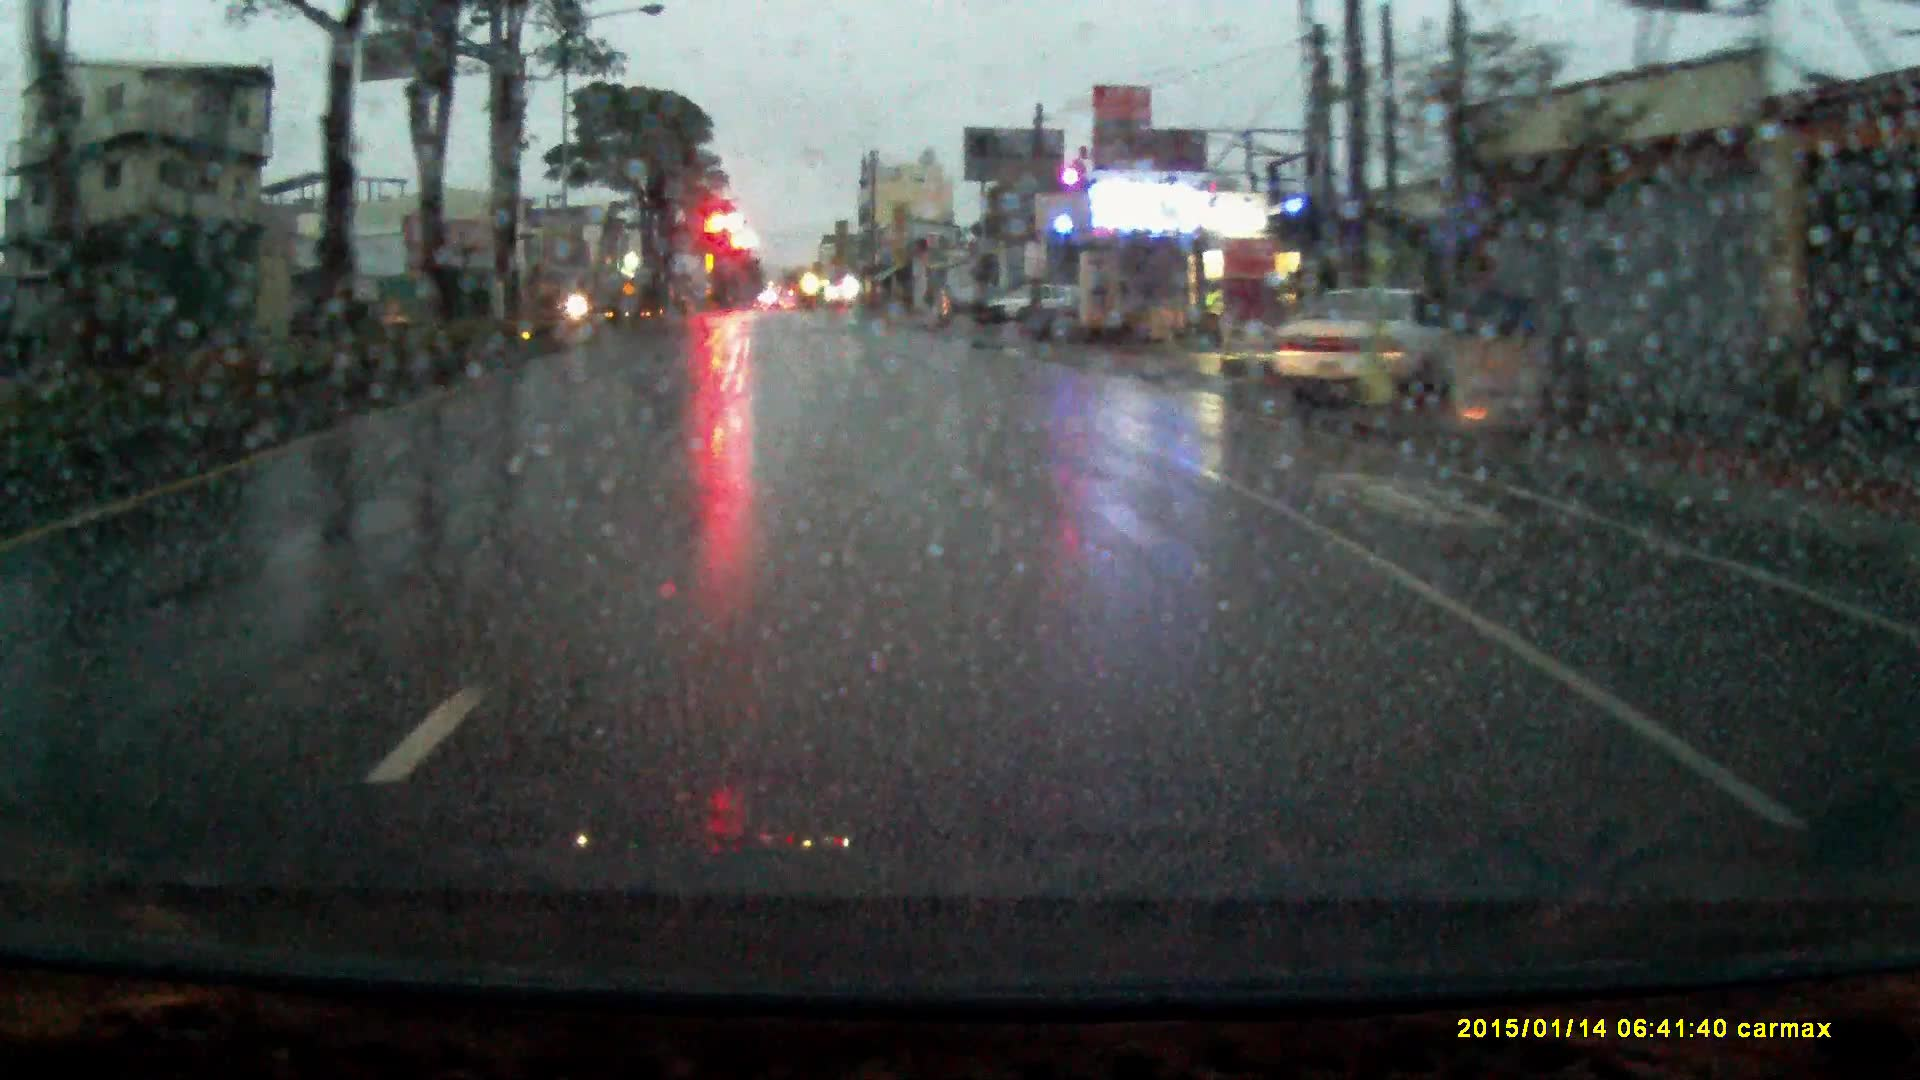vehicle: (1273, 286, 1458, 404), (985, 284, 1069, 326), (554, 290, 600, 322)
